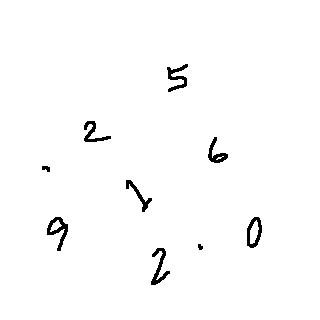.: (194, 241, 209, 258)
0: (239, 212, 267, 255)
1: (120, 176, 159, 218)
2: (77, 115, 118, 152), (143, 245, 178, 288)
5: (162, 56, 197, 99)
6: (205, 130, 229, 168)
9: (40, 213, 73, 256)
